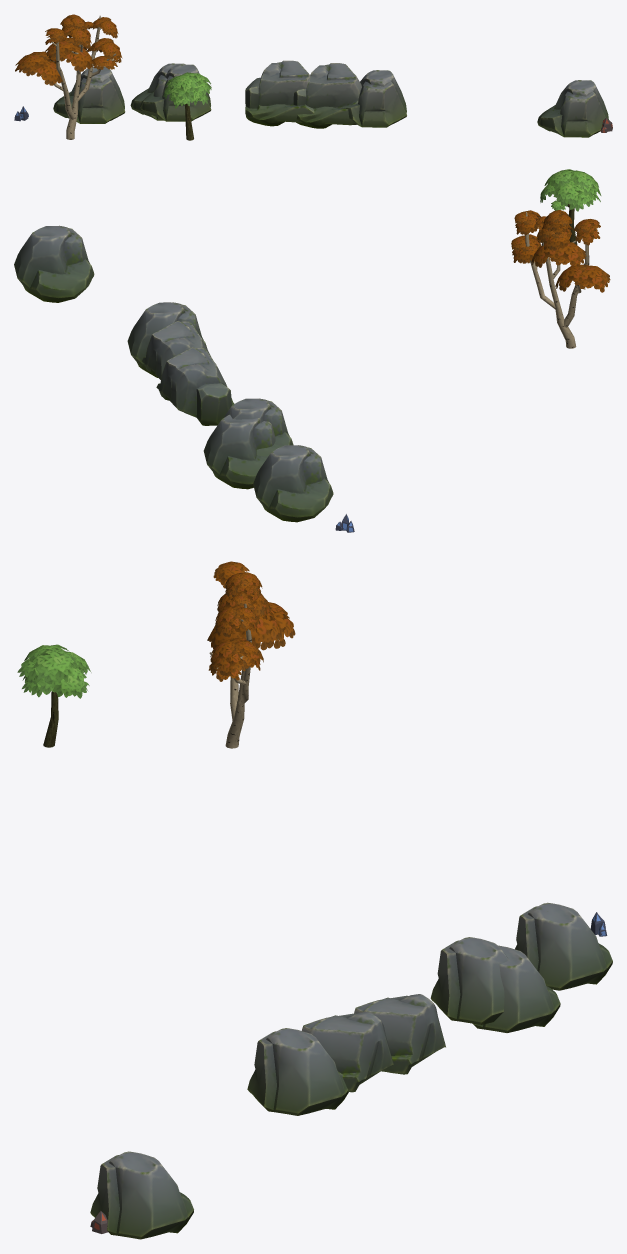
The model's file is overworld-8-0.gltf.
3 renders of one model, top to bottom at view 1: azimuth 30°, elevation 25°; view 2: azimuth 150°, elevation 25°; view 3: azimuth 270°, elevation 25°, orthographic. The views are drawn at different scales.
Visible parts, largest first — view 1: d3a49cf40a43bca59e27ca2096fab65e613b5d5993f180ce0def51f1fdd9 (×5), 945c10e33683e4b3baa7557ff260c79730a9992e0e5a23b5d9307a2c4035 (×2), 133dae8ce562dbc4cbf0d0d2cb7dc4cb2baafed83b6c58ebd4446a365708, 8480a643e36c0194bf11e79cbc019e38e5ff72b8bc295b144212e5f7a5b3; view 2: d3a49cf40a43bca59e27ca2096fab65e613b5d5993f180ce0def51f1fdd9 (×5), 133dae8ce562dbc4cbf0d0d2cb7dc4cb2baafed83b6c58ebd4446a365708, 945c10e33683e4b3baa7557ff260c79730a9992e0e5a23b5d9307a2c4035 (×2), 8480a643e36c0194bf11e79cbc019e38e5ff72b8bc295b144212e5f7a5b3; view 3: d3a49cf40a43bca59e27ca2096fab65e613b5d5993f180ce0def51f1fdd9 (×5), 945c10e33683e4b3baa7557ff260c79730a9992e0e5a23b5d9307a2c4035 (×2), 133dae8ce562dbc4cbf0d0d2cb7dc4cb2baafed83b6c58ebd4446a365708, 8480a643e36c0194bf11e79cbc019e38e5ff72b8bc295b144212e5f7a5b3.
Part boxes in pixels (x1=…): d3a49cf40a43bca59e27ca2096fab65e613b5d5993f180ce0def51f1fdd9 (×5): x1=53, y1=63, x2=608, y2=137; 945c10e33683e4b3baa7557ff260c79730a9992e0e5a23b5d9307a2c4035 (×2): x1=245, y1=60, x2=361, y2=128; 133dae8ce562dbc4cbf0d0d2cb7dc4cb2baafed83b6c58ebd4446a365708: x1=15, y1=14, x2=122, y2=139; 8480a643e36c0194bf11e79cbc019e38e5ff72b8bc295b144212e5f7a5b3: x1=163, y1=72, x2=211, y2=140; d3a49cf40a43bca59e27ca2096fab65e613b5d5993f180ce0def51f1fdd9 (×5): x1=14, y1=225, x2=333, y2=522; 133dae8ce562dbc4cbf0d0d2cb7dc4cb2baafed83b6c58ebd4446a365708: x1=511, y1=210, x2=610, y2=348; 945c10e33683e4b3baa7557ff260c79730a9992e0e5a23b5d9307a2c4035 (×2): x1=142, y1=321, x2=234, y2=425; 8480a643e36c0194bf11e79cbc019e38e5ff72b8bc295b144212e5f7a5b3: x1=540, y1=169, x2=601, y2=244; d3a49cf40a43bca59e27ca2096fab65e613b5d5993f180ce0def51f1fdd9 (×5): x1=90, y1=902, x2=612, y2=1239; 945c10e33683e4b3baa7557ff260c79730a9992e0e5a23b5d9307a2c4035 (×2): x1=301, y1=994, x2=445, y2=1092; 133dae8ce562dbc4cbf0d0d2cb7dc4cb2baafed83b6c58ebd4446a365708: x1=207, y1=561, x2=295, y2=748; 8480a643e36c0194bf11e79cbc019e38e5ff72b8bc295b144212e5f7a5b3: x1=17, y1=644, x2=91, y2=747.
Bounding box in the file's own units: 36.77 × 13.27 × 22.88.
Materials: 8 (6 with a texture image).
